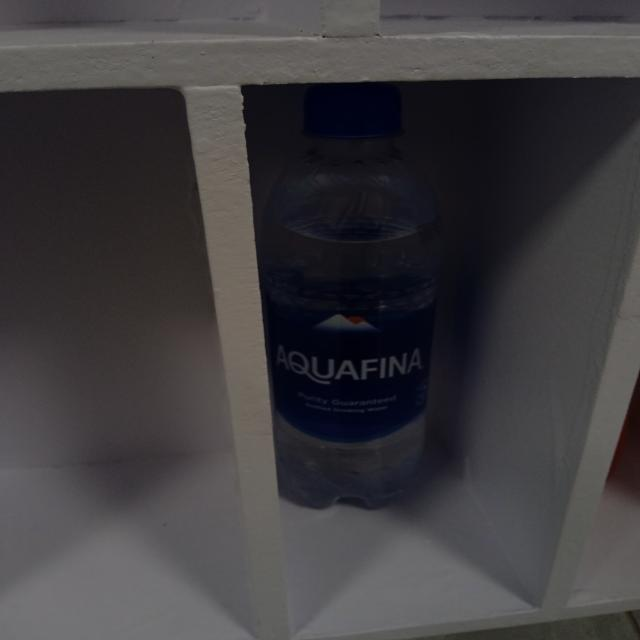Plastic: (271, 91, 438, 511)
